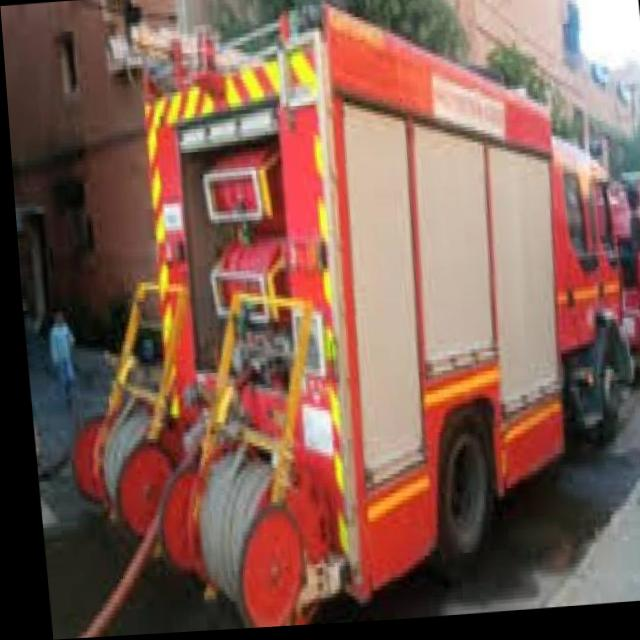Protection Civile: (25, 1, 640, 639)
